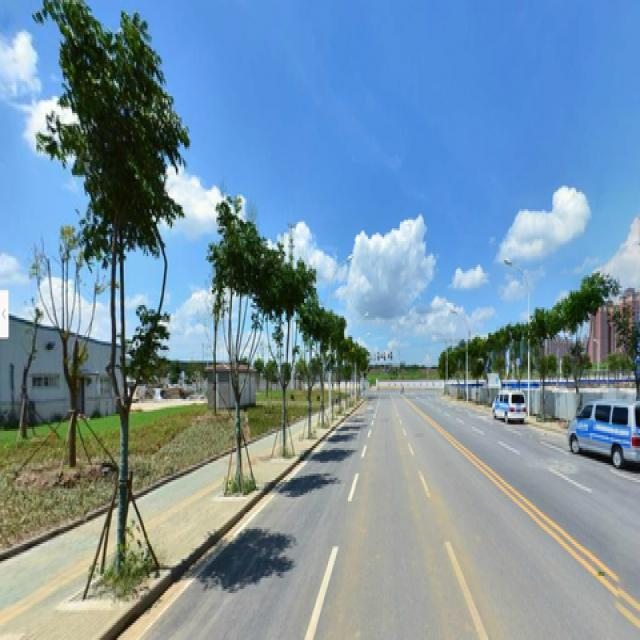koel: (46, 2, 182, 553)
